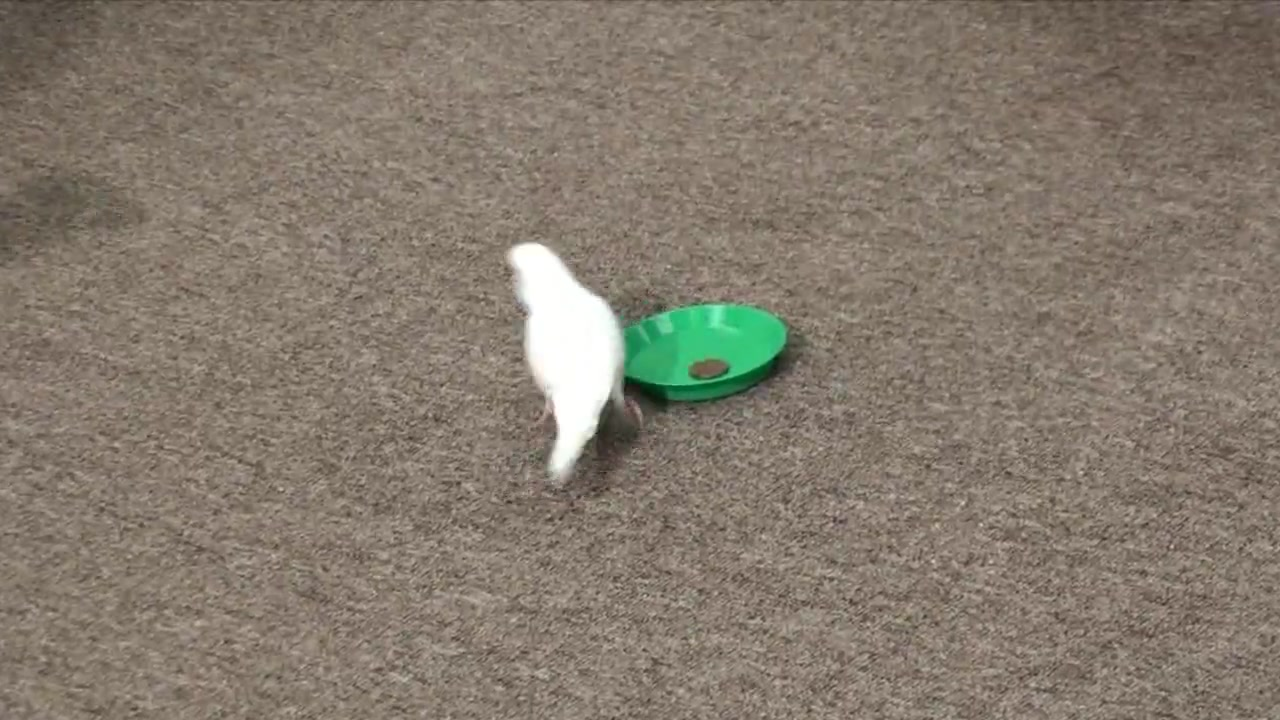bird: (500, 245, 645, 488)
